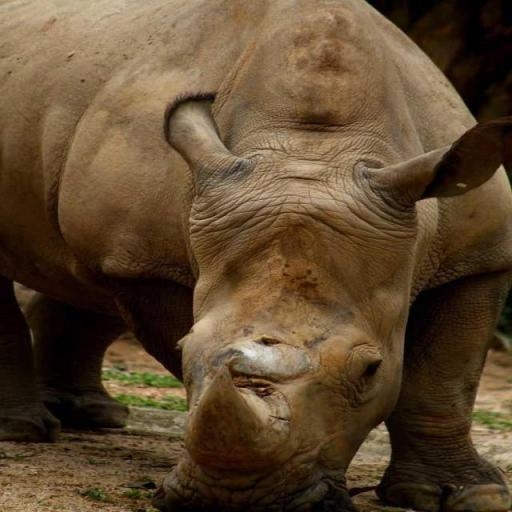Rhino: (1, 0, 510, 510)
